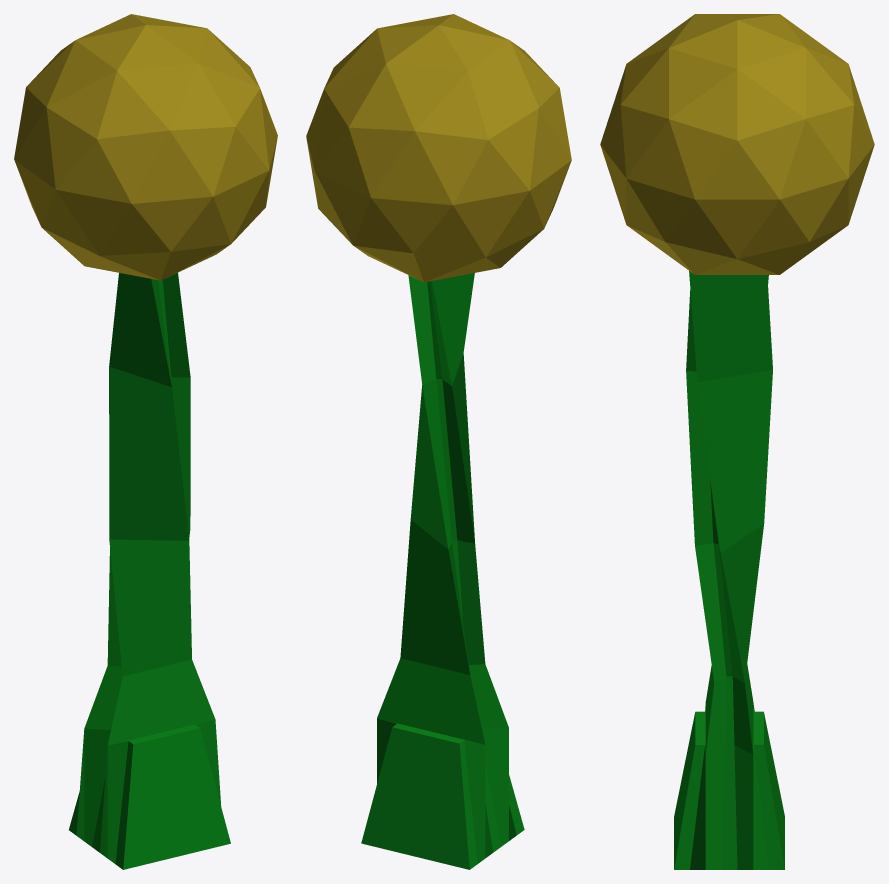
File: LampPost.fbx
The picture shows the model from 3 angles, left to right: view 1: azimuth 30°, elevation 25°; view 2: azimuth 150°, elevation 25°; view 3: azimuth 270°, elevation 25°; orthographic projection.
Visible parts, largest first — view 1: Cube, Icosphere; view 2: Icosphere, Cube; view 3: Icosphere, Cube.
Part boxes in pixels (x1,y1,x2,y2): Cube: (69,272,230,869); Icosphere: (14,14,277,280); Icosphere: (306,14,571,282); Cube: (361,273,524,869); Icosphere: (600,14,874,274); Cube: (674,271,784,869).
Size of the model in its own units: 412 by 1433 by 433.
